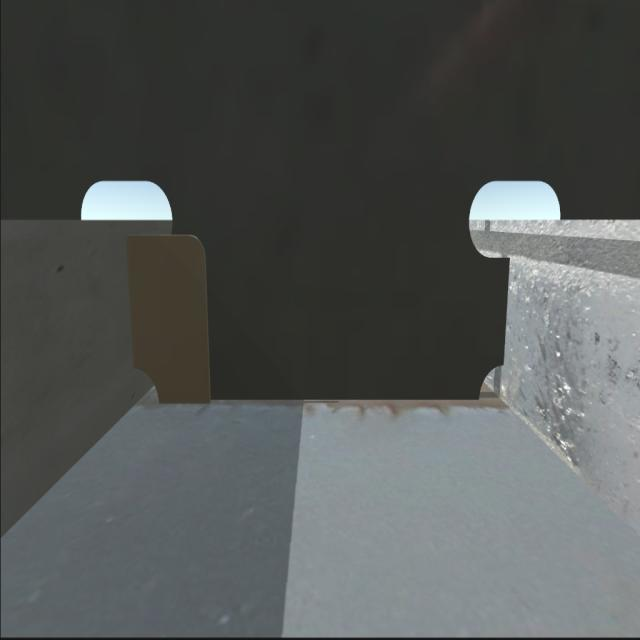fillet_hole: (476, 360, 506, 403), (134, 362, 160, 401)
fillet_yong_jeop_jang: (158, 394, 487, 412)
longi_yong_jeop_jang: (120, 236, 143, 366), (500, 258, 515, 368)
plate_CP05: (128, 229, 209, 394)
